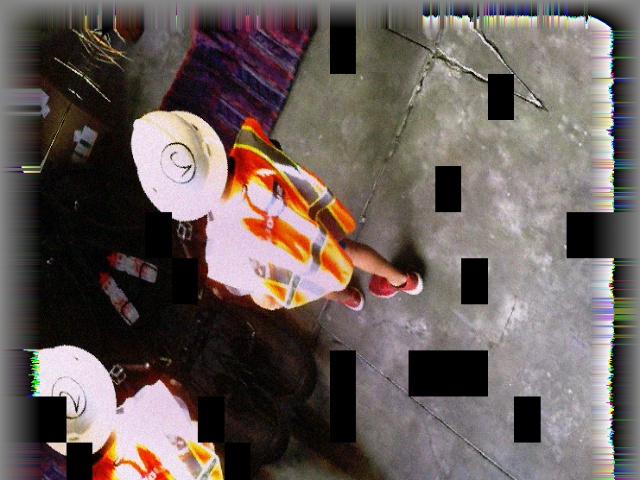two: (153, 132, 200, 191)
